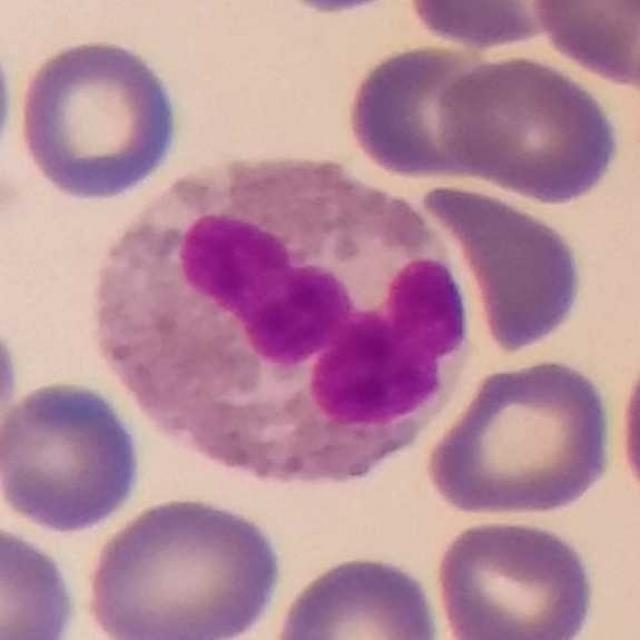eosino: (93, 160, 466, 487)
